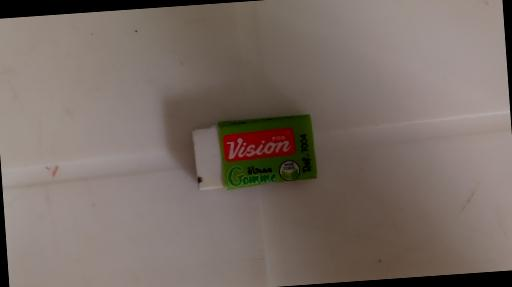Eraser: (188, 112, 317, 191)
